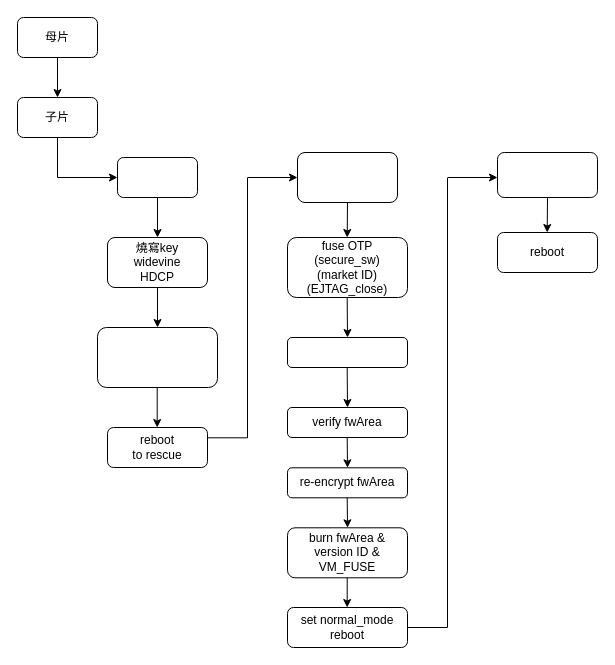
This 615x665 diagram has some shape labels left out. Each missing label, with the centre of its shape:
FSBL check 0x99 flag: [347,177]
re-load OTP: [347,352]
secure boot: [547,175]
寫flag到 0x99 block (secure_sw) (market ID) (EJTAG_close): [157,357]
產測程序: [157,177]
